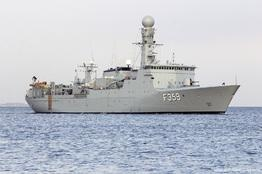warship: (24, 16, 243, 114)
